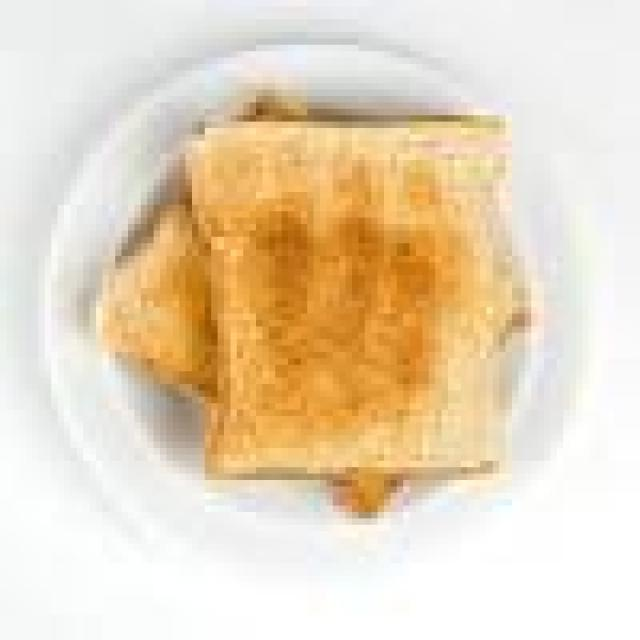Bread: (189, 118, 519, 474)
